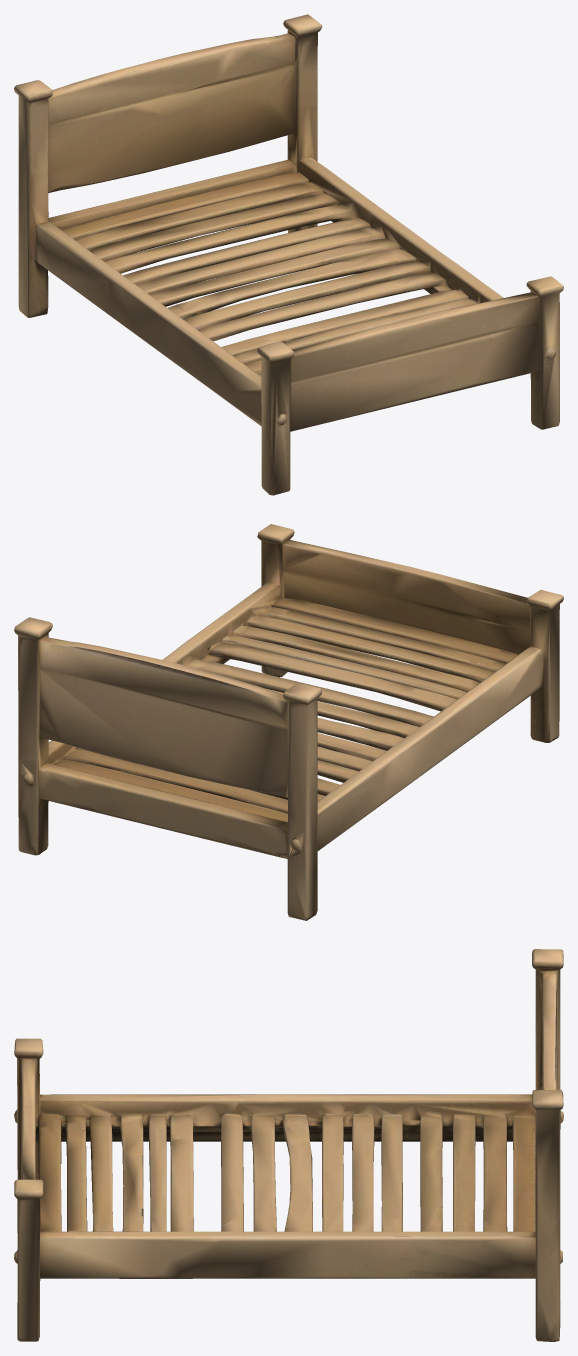
File: bed-frame-lite.glb
The picture shows the model from 3 angles, top to bottom: view 1: azimuth 30°, elevation 25°; view 2: azimuth 150°, elevation 25°; view 3: azimuth 270°, elevation 25°; orthographic projection. The views are drawn at different scales.
Parts seen in each view (by area): view 1: node_0; view 2: node_0; view 3: node_0.
Boxes of the visible parts, box(x1,y1,x2,y2) form: node_0: box(14, 14, 563, 495); node_0: box(14, 524, 563, 920); node_0: box(14, 949, 563, 1341).
Bounding box in the file's own units: 0.6198 × 0.4524 × 0.9329.
1 material, 1 textured.
